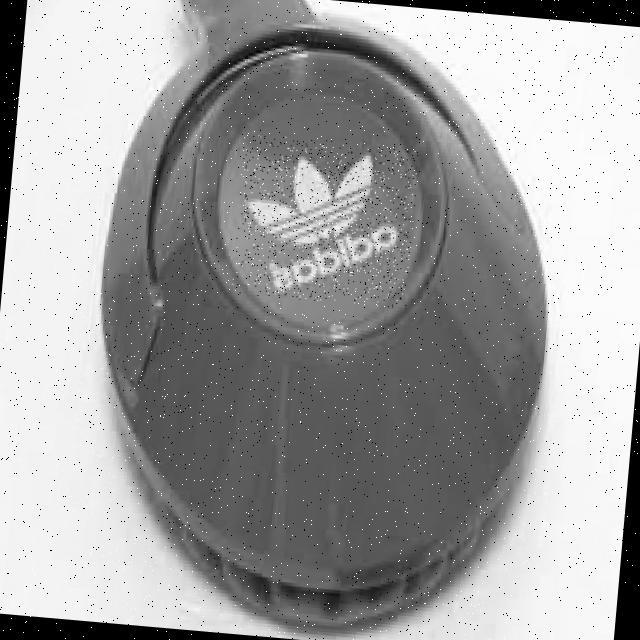Adidas: (230, 133, 419, 308)
